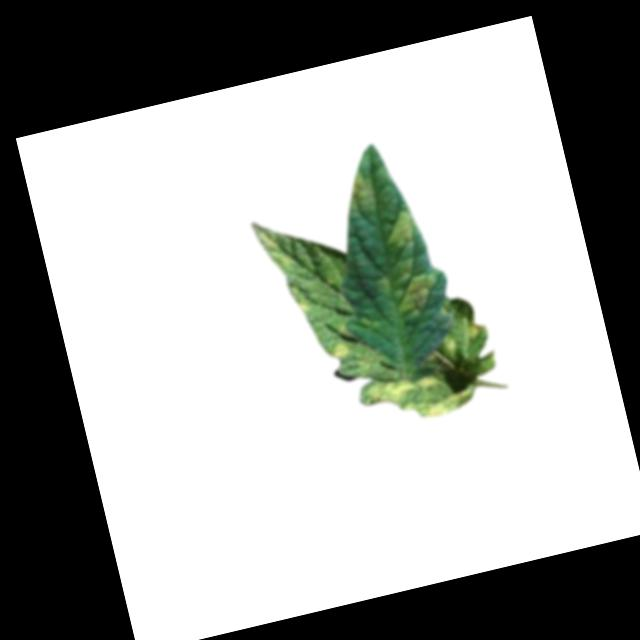Leaf_Mold: (363, 360, 473, 433), (385, 269, 441, 327), (379, 204, 422, 256), (340, 168, 378, 218), (328, 335, 354, 364)
